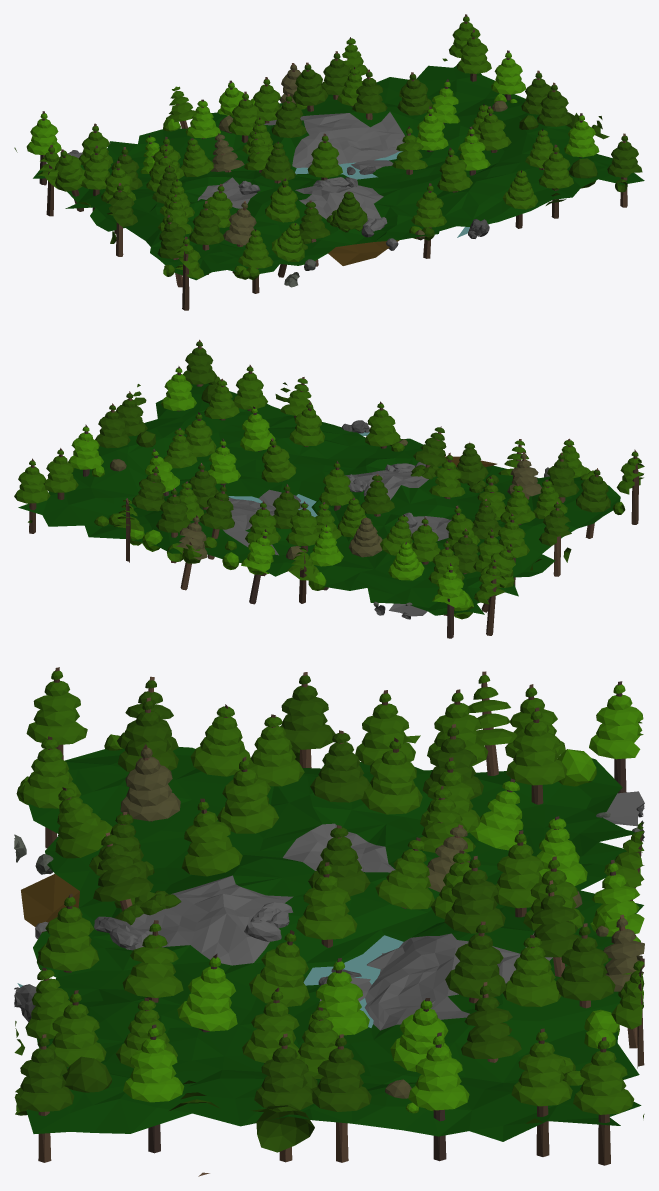
The model's file is forest.glb.
3 views of the same model, one above another, from view 1: azimuth 30°, elevation 25°; view 2: azimuth 150°, elevation 25°; view 3: azimuth 270°, elevation 25° (orthographic). The views are drawn at different scales.
Parts seen in each view (by area): view 1: Trees.001, ForestGround.001, Bushes.001, Rocks.001, Water.001; view 2: Trees.001, ForestGround.001, Bushes.001, Rocks.001; view 3: Trees.001, ForestGround.001, Bushes.001, Rocks.001, Water.001.
Part boxes in pixels (x1,y1,x2,y2): Trees.001: (14,14,642,310); ForestGround.001: (33,65,644,280); Bushes.001: (46,58,627,280); Rocks.001: (69,142,489,287); Water.001: (295,151,489,237); Trees.001: (14,339,644,638); ForestGround.001: (18,383,620,616); Bushes.001: (28,376,625,619); Rocks.001: (293,420,549,619); Trees.001: (14,667,644,1176); ForestGround.001: (21,747,644,1141); Bushes.001: (14,734,644,1152); Rocks.001: (14,803,644,1021); Water.001: (17,935,403,1027).
Bounding box in the file's own units: 133 × 24.65 × 91.45.
1 material, 1 textured.
